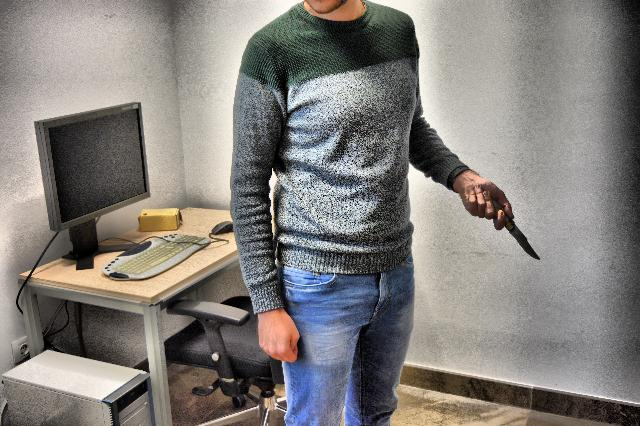knife: (478, 187, 544, 263)
